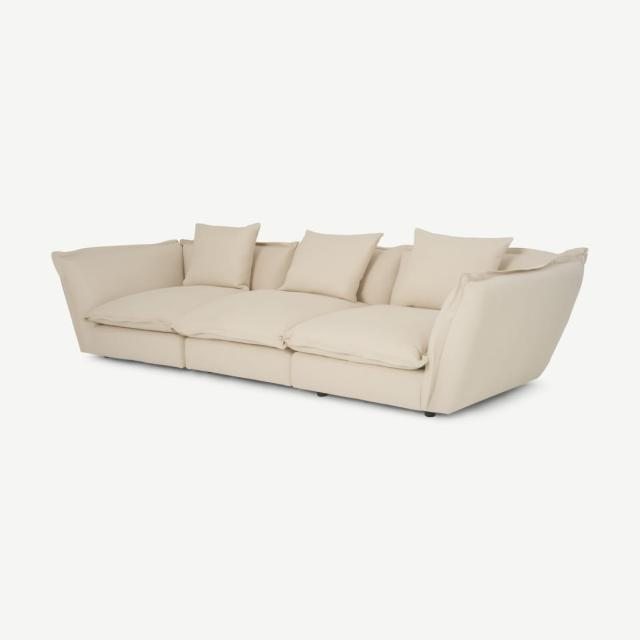back_cushion: (356, 229, 546, 310), (251, 242, 298, 290)
left_arm: (423, 252, 585, 413)
legs: (104, 357, 139, 363), (372, 403, 400, 409), (231, 376, 244, 379), (298, 389, 311, 392)
right_arm: (51, 240, 183, 353)
seat_cushion: (87, 286, 427, 369)
stallion-sofa: (52, 224, 587, 416)
